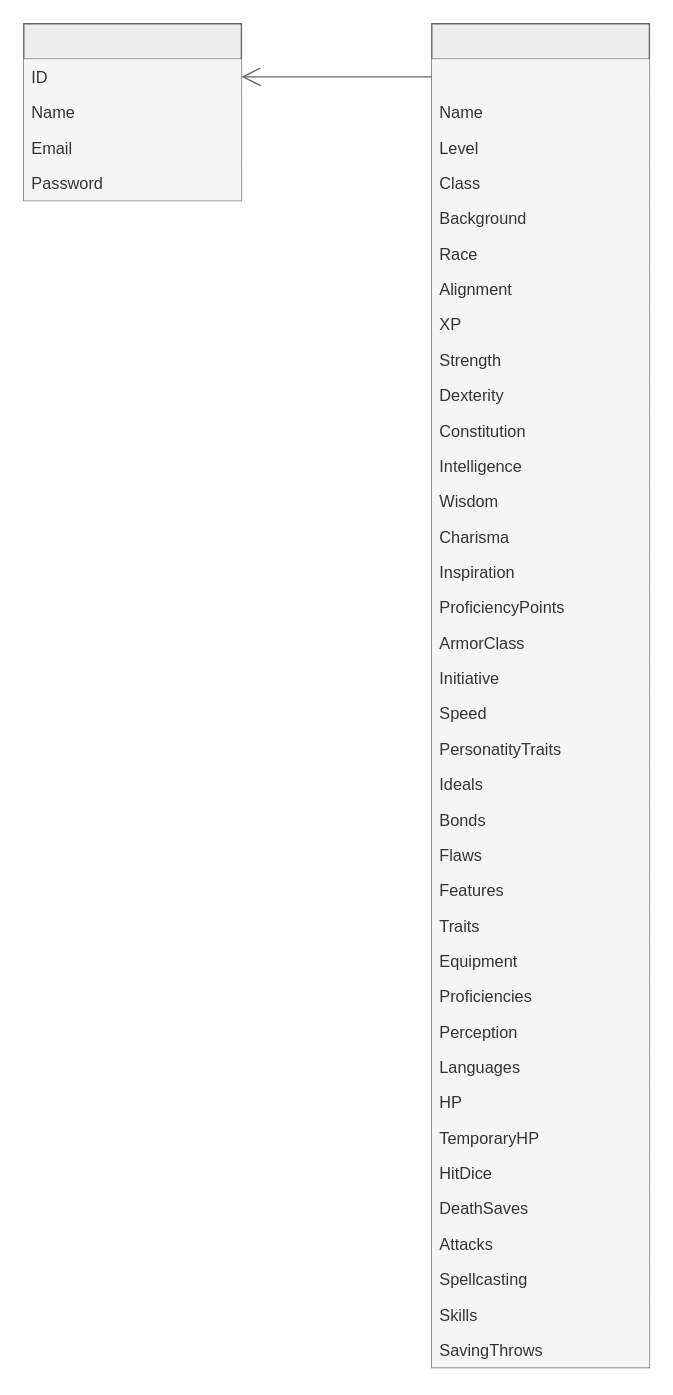
Some shapes in this 673 by 1395 pixel diagram are drawn without their labels. The box of each missing label's shape, as (x1, y1, x2, y2) in pixels:
OwnerId: (431, 58, 649, 94)
Sheet: (430, 22, 649, 1367)
User: (22, 22, 241, 201)
